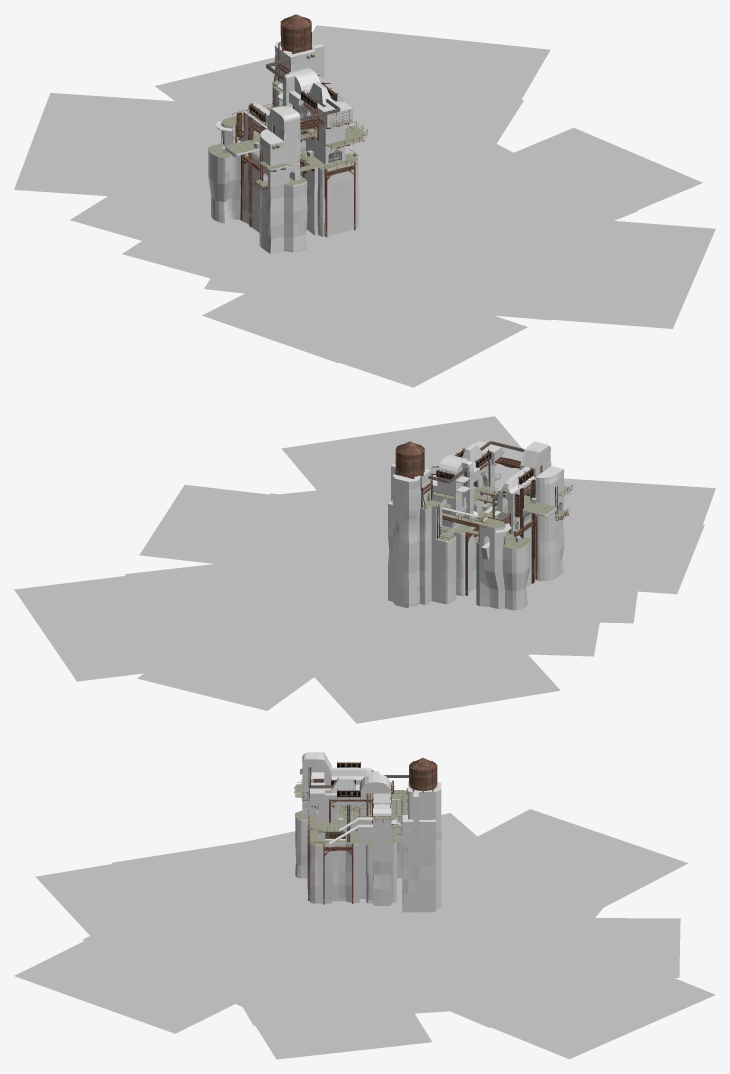
File: bazaar_00.fbx
3 views of the same model, one above another, from view 1: azimuth 30°, elevation 25°; view 2: azimuth 150°, elevation 25°; view 3: azimuth 270°, elevation 25° (orthographic). The views are drawn at different scales.
Parts seen in each view (by area): view 1: CLOUDS, Cube, WATER CANISTER; view 2: CLOUDS, Cube, WATER CANISTER, IRON BEAMS.017; view 3: CLOUDS, Cube, WATER CANISTER.
Part boxes in pixels (bbox=[...]): CLOUDS: bbox=[14, 25, 715, 387]; Cube: bbox=[208, 41, 363, 253]; WATER CANISTER: bbox=[280, 14, 312, 54]; CLOUDS: bbox=[14, 416, 715, 723]; Cube: bbox=[388, 441, 570, 610]; WATER CANISTER: bbox=[395, 441, 424, 478]; IRON BEAMS.017: bbox=[431, 466, 535, 583]; CLOUDS: bbox=[14, 809, 715, 1059]; Cube: bbox=[295, 752, 441, 912]; WATER CANISTER: bbox=[409, 757, 437, 792].
Size of the model in its own units: 245 by 79.42 by 303.
